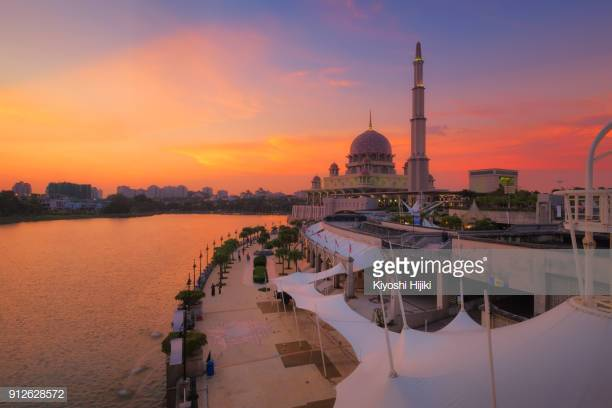Mosque: (306, 35, 430, 223)
